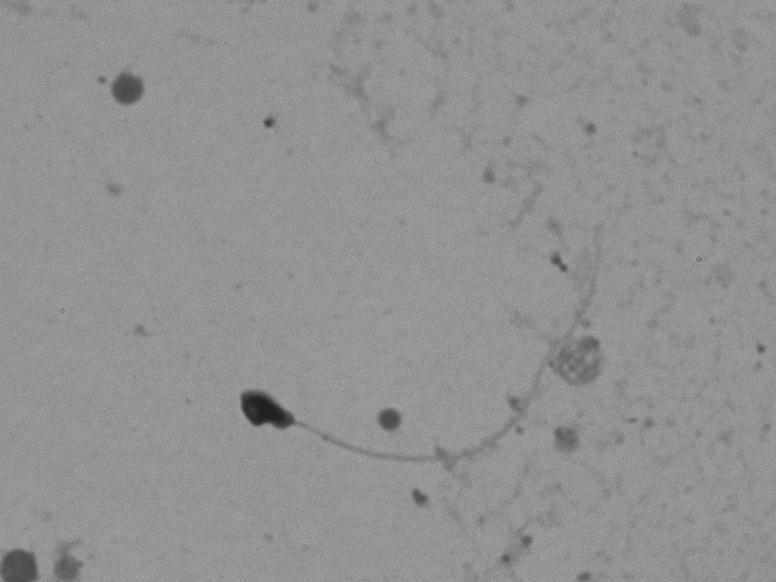Abnormal: (183, 197, 615, 500)
